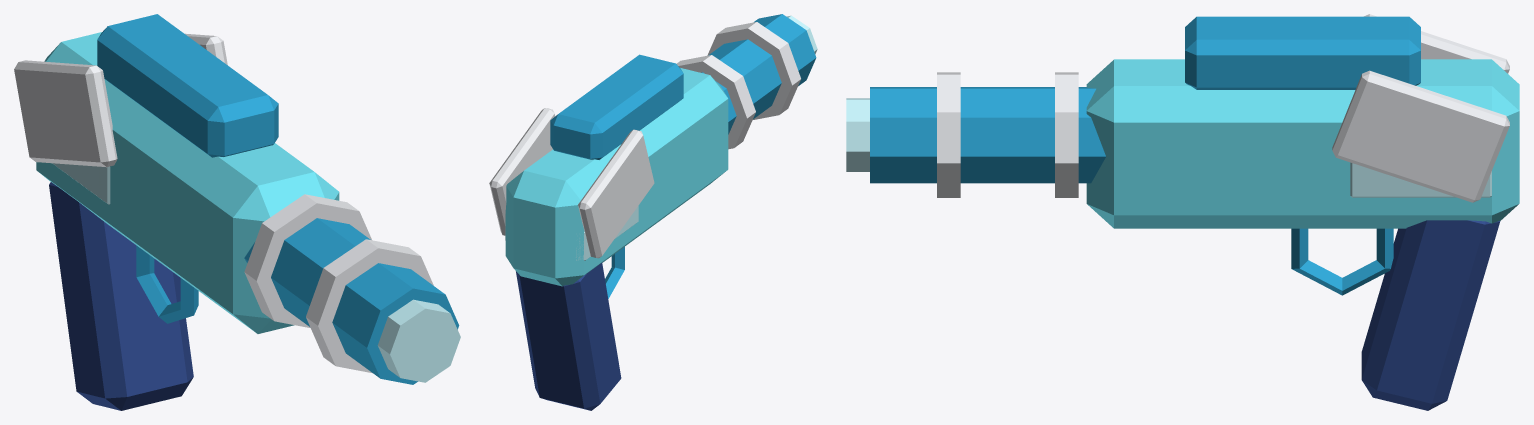
Rendered from DiamondLaserBlaster.fbx.
3 renders of one model, left to right at view 1: azimuth 30°, elevation 25°; view 2: azimuth 150°, elevation 25°; view 3: azimuth 270°, elevation 25°, orthographic. The views are drawn at different scales.
Parts seen in each view (by area): view 1: DiamondLaserBlaster; view 2: DiamondLaserBlaster; view 3: DiamondLaserBlaster.
Boxes of the visible parts, box(x1,y1,x2,y2) form: DiamondLaserBlaster: box(14, 14, 460, 410); DiamondLaserBlaster: box(489, 14, 817, 410); DiamondLaserBlaster: box(846, 14, 1519, 410).
Size of the model in its own units: 0.78 by 2.07 by 3.42.
Materials: 1 (1 with a texture image).
